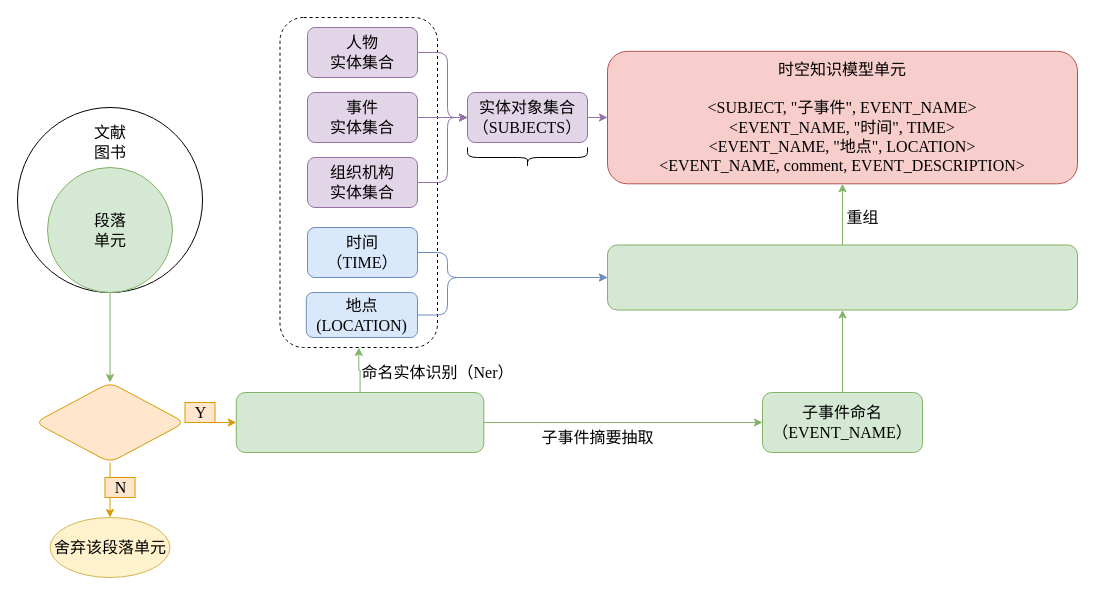
Image size: 1095x595. Some labels were removed from this diagram. Here are the shapes that lost their labels. From the top down, the centre of each, then its label:
At point (527, 157): "N个实体对象 （N* SUBJECT）".
At point (842, 277): "时空知识单元四元组 <TIME,LOCATION,EVENT_NAME,EVENT_DESCRIPTION>".
At point (109, 422): "是否有时间实体".
At point (359, 422): "子事件（ EVENT_DESCRIPTION ）".
